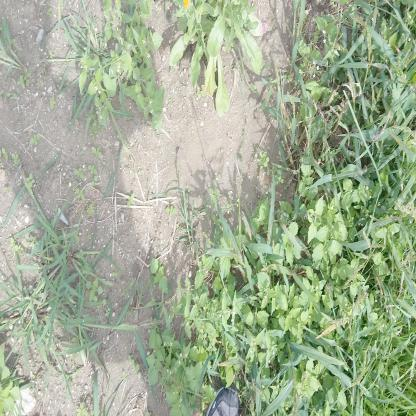flower: (310, 212, 312, 217)
